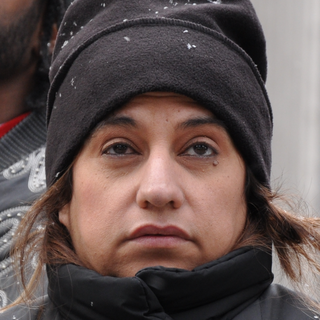eye: (174, 138, 222, 164), (98, 138, 145, 163)
